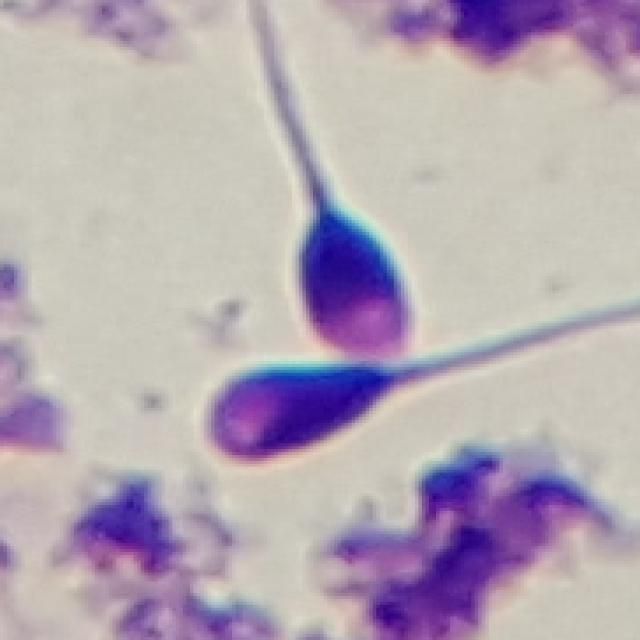normal sperm: (284, 119, 415, 361), (205, 346, 476, 462)
